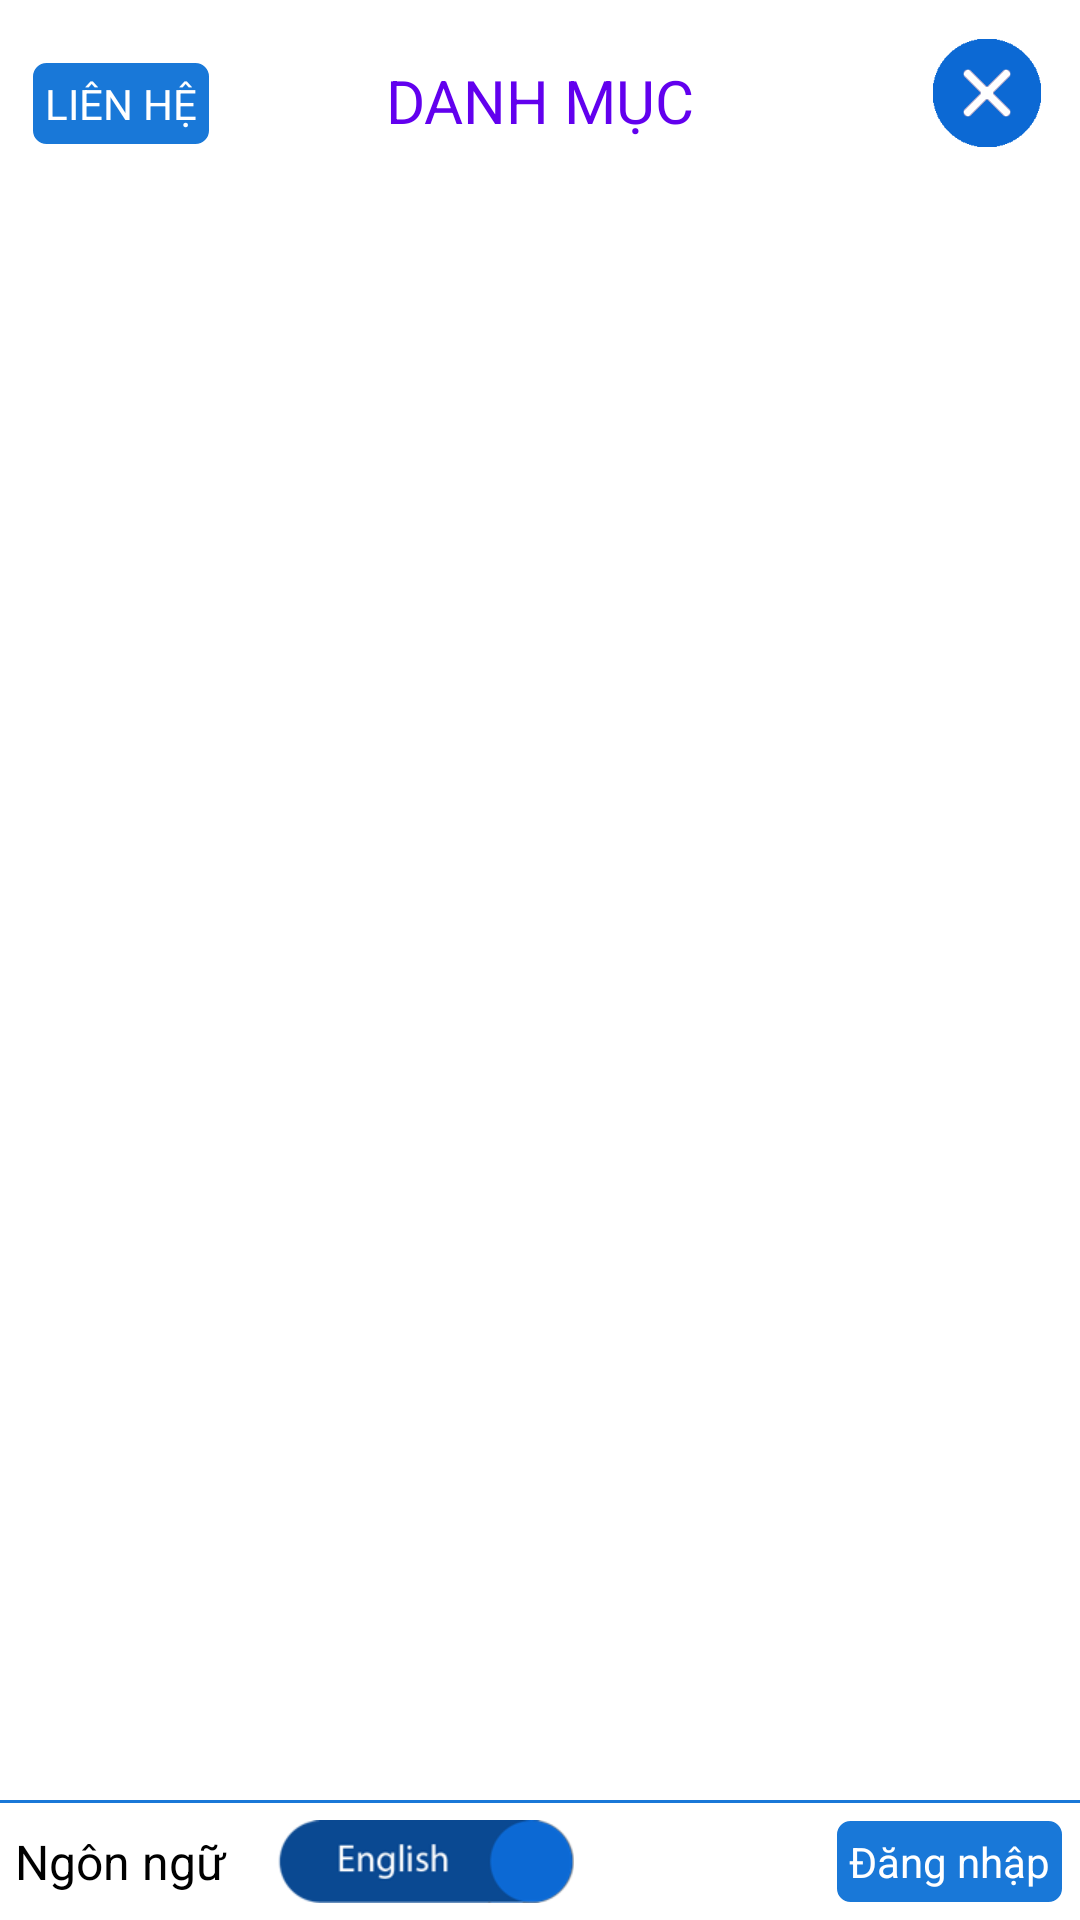

Icons on this 1080 × 1920 Android screen, each with the point to tap as (x=x, y=y):
close popup: (x=987, y=93)
